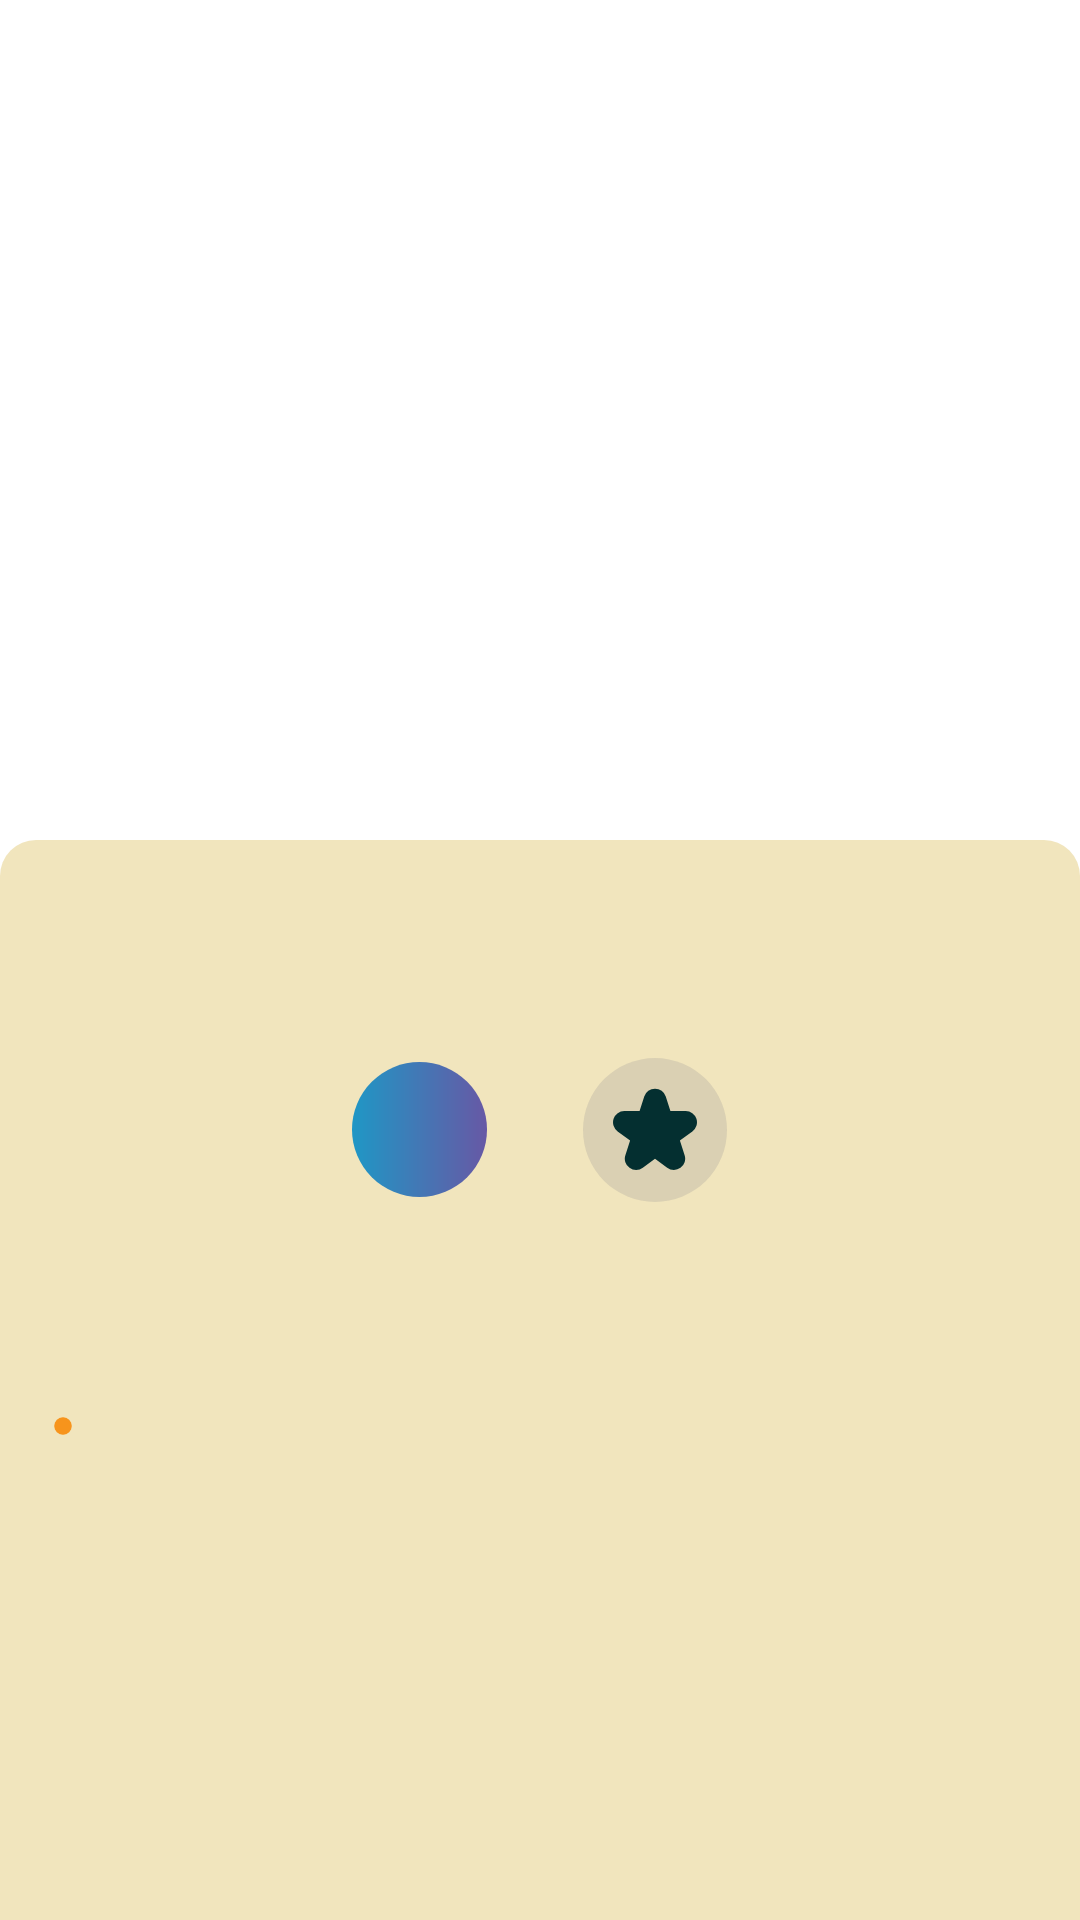

Screen size 1080*1920. Icon name, then its box in pixels as Rect(x1, y1, x2, y2):
star true: Rect(613, 1088, 697, 1170)
